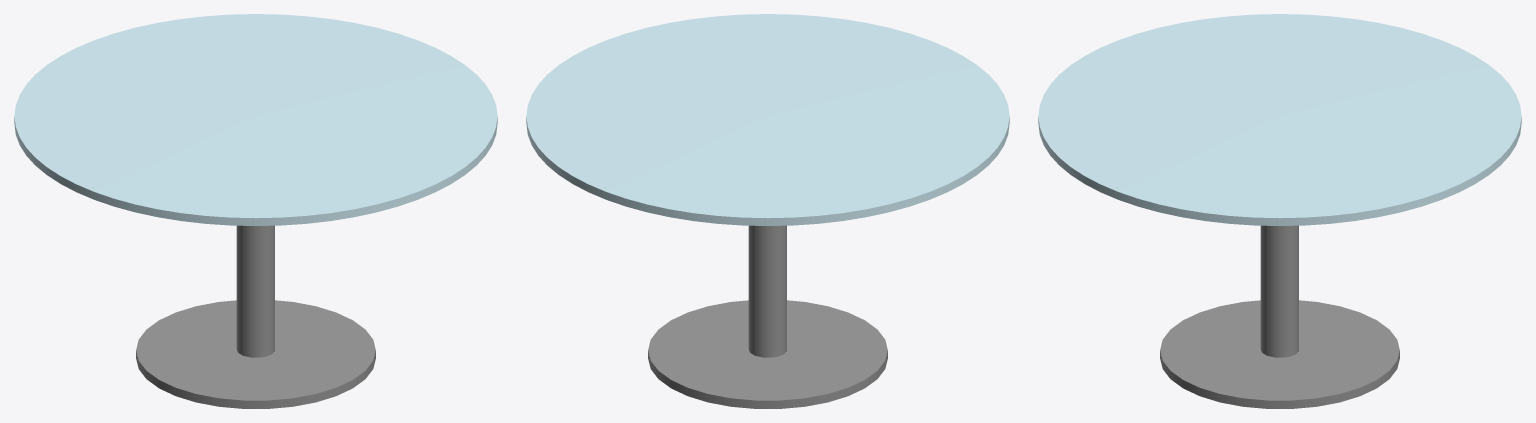
3 views of the same model, side by side, from view 1: azimuth 30°, elevation 25°; view 2: azimuth 150°, elevation 25°; view 3: azimuth 270°, elevation 25° (orthographic).
Visible parts, largest first — view 1: table2; view 2: table2; view 3: table2.
Part boxes in pixels (x1=…): table2: x1=14, y1=14, x2=497, y2=408; table2: x1=526, y1=14, x2=1009, y2=408; table2: x1=1038, y1=14, x2=1521, y2=408.
Bounding box in the file's own units: 155 × 85.85 × 155.
